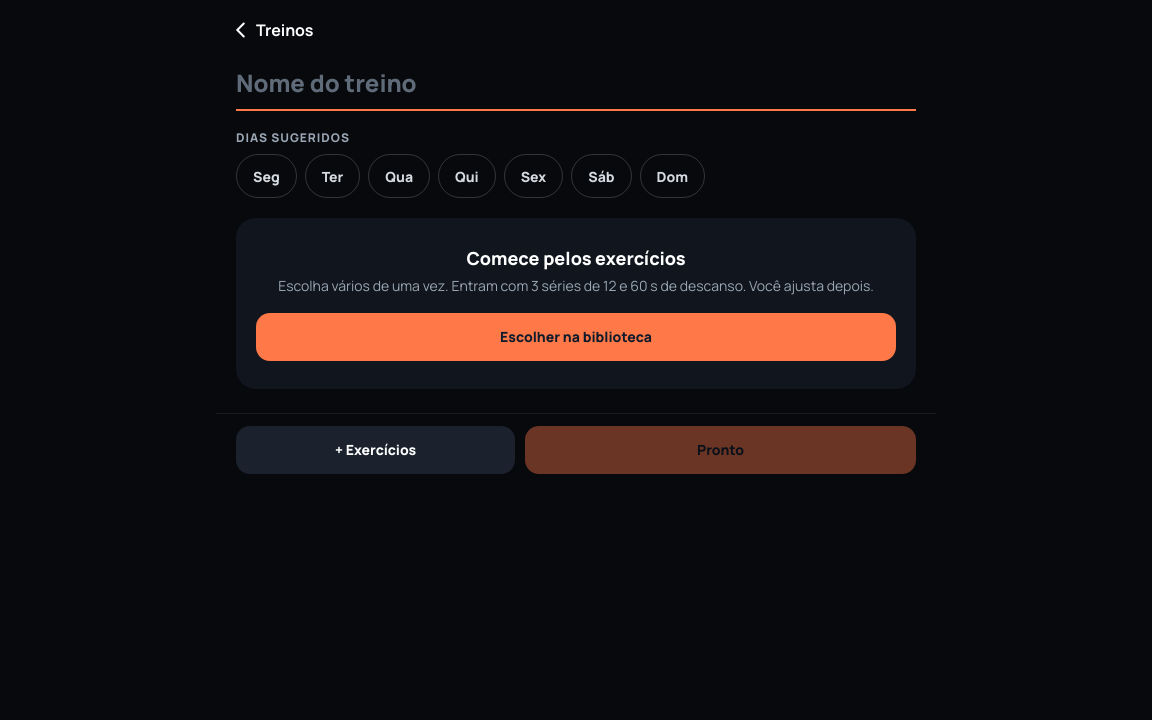
Test: WorkoutEditor (FIT-146) › a biblioteca filtra por busca e por músculo
Click the button "Escolher na biblioteca". click: (576, 337)
box: [256,313,896,361]
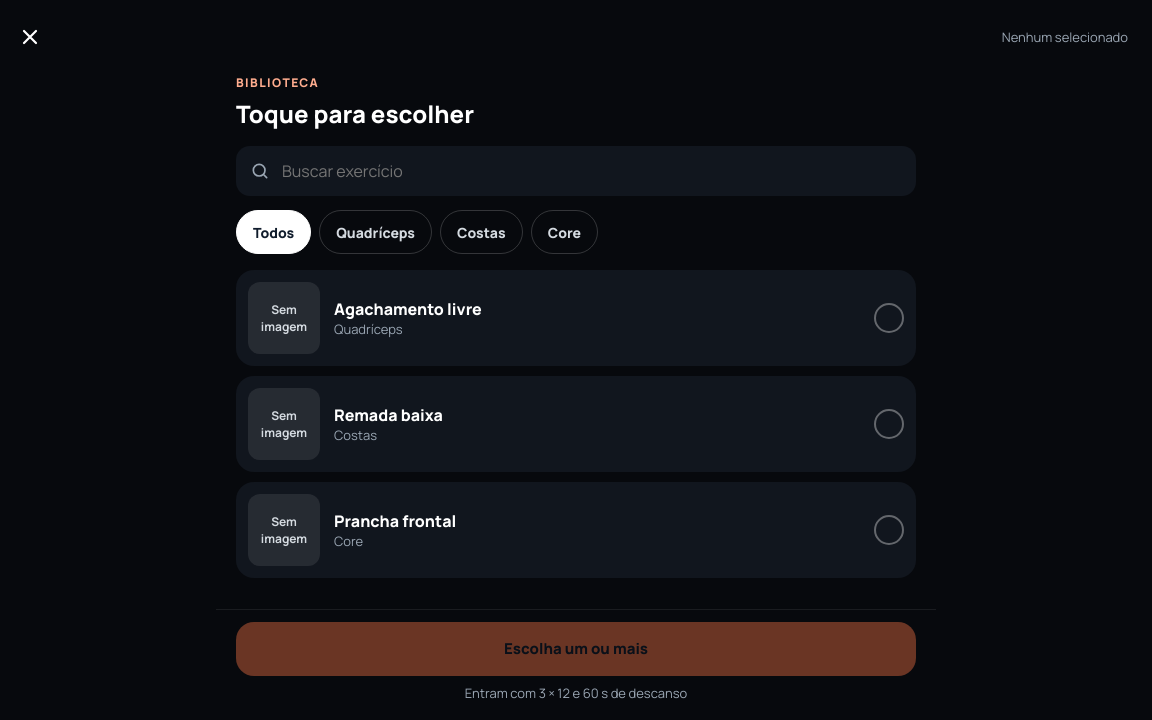
Type "remada" into the field labelled "Buscar exercício". click: (591, 171)
box: [280,147,902,195]
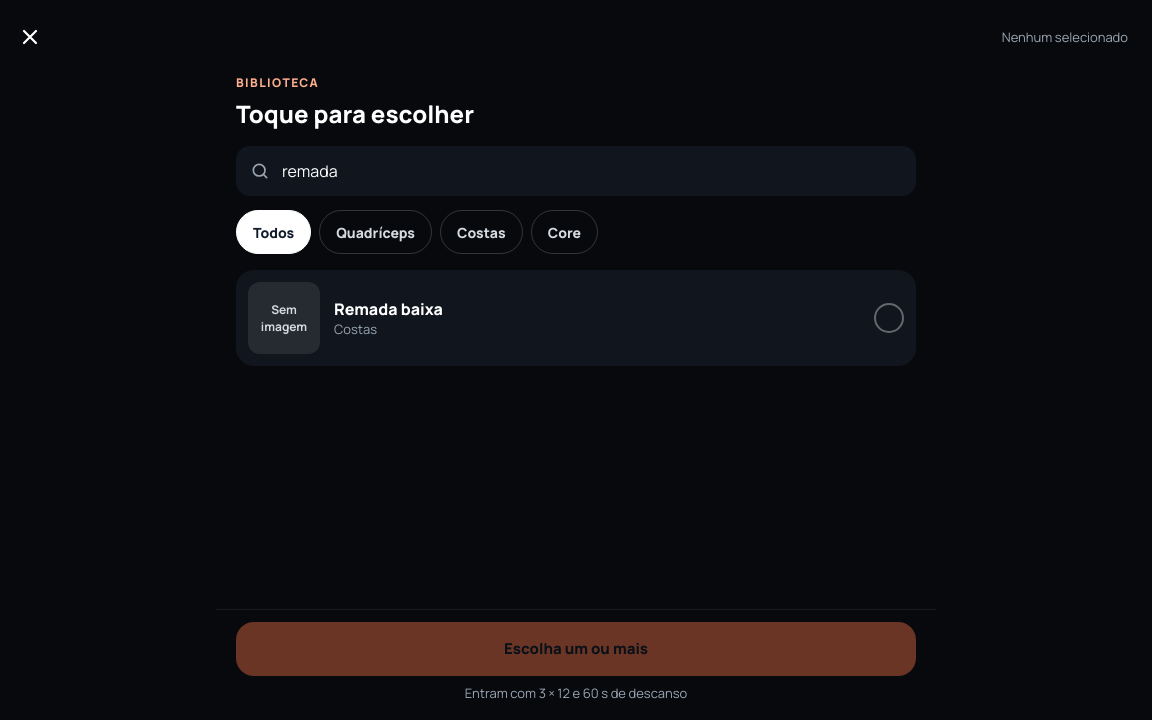
Now the button "Sem imagem Remada baixa Costas" is shown, box [236,270,916,366]
Now the button "Agachamento" is gone
Clear the field named "Buscar exercício". click: (591, 171)
box: [280,147,902,195]
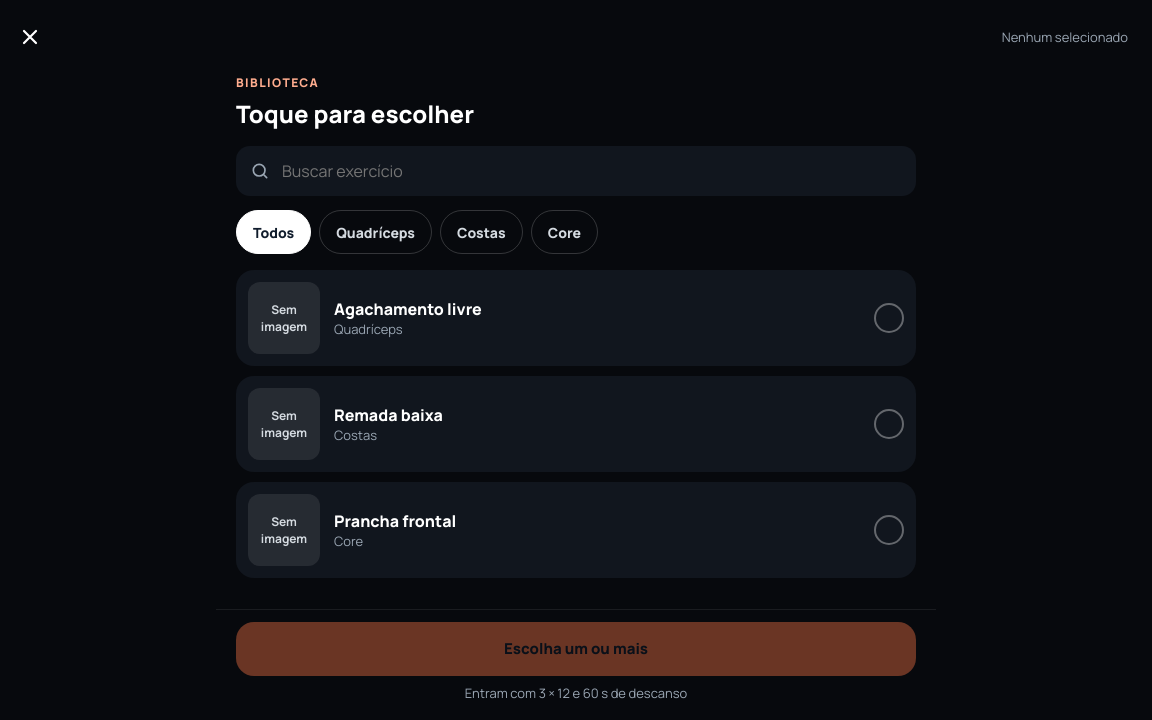
Click the radio button labelled "Core". click: (564, 232)
box: [531,210,598,254]
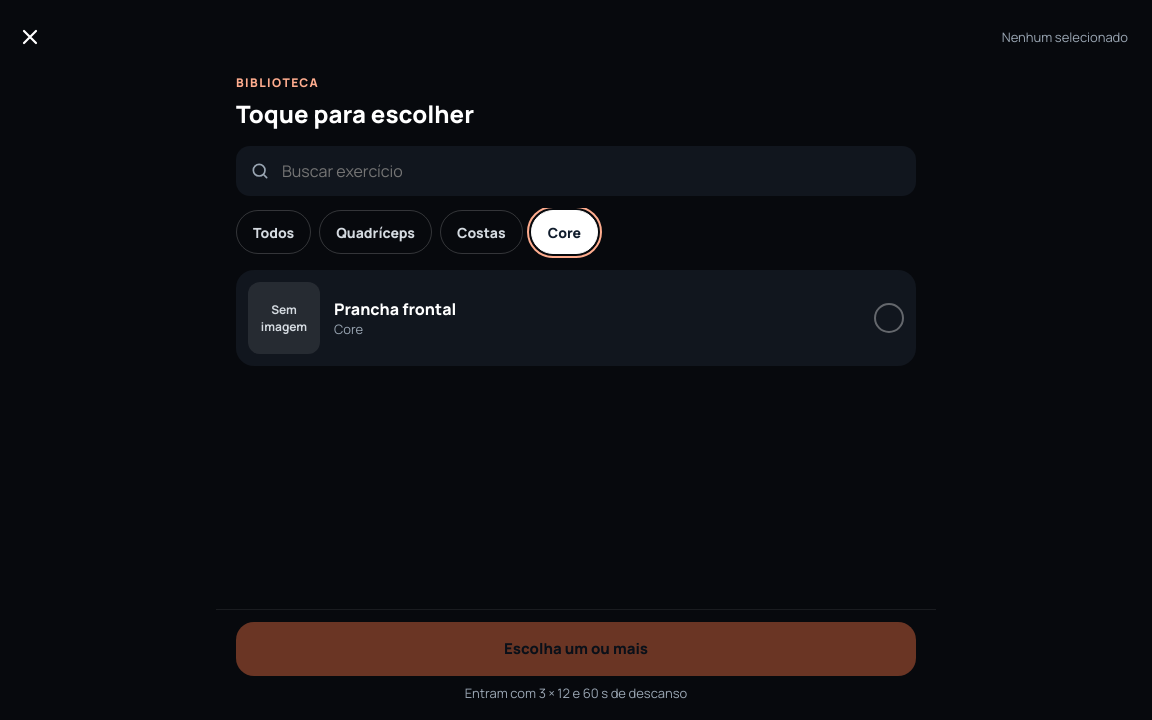
Now the button "Sem imagem Prancha frontal Core" is shown, box [236,270,916,366]
Now the button "Remada" is gone
